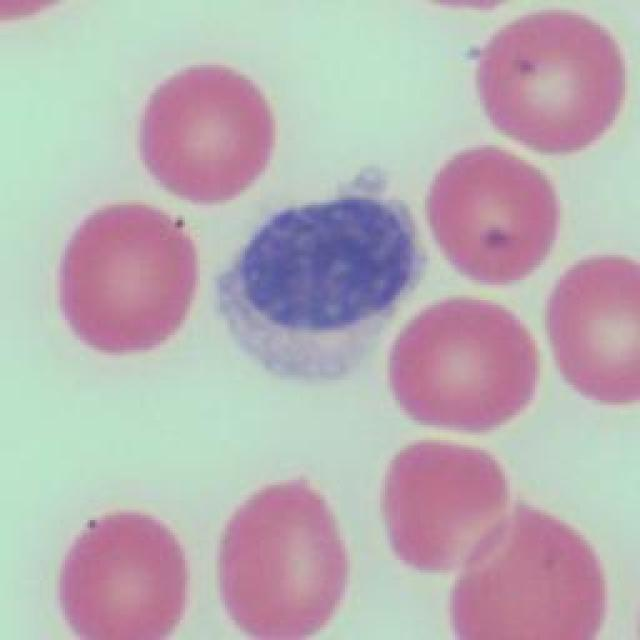RBC: (445, 507, 610, 640), (389, 293, 541, 435), (58, 203, 198, 355), (473, 10, 625, 150), (218, 480, 350, 640), (428, 148, 562, 288), (138, 64, 274, 201), (56, 510, 192, 640), (381, 440, 511, 575), (545, 255, 640, 410)
WBC: (211, 163, 429, 385)
